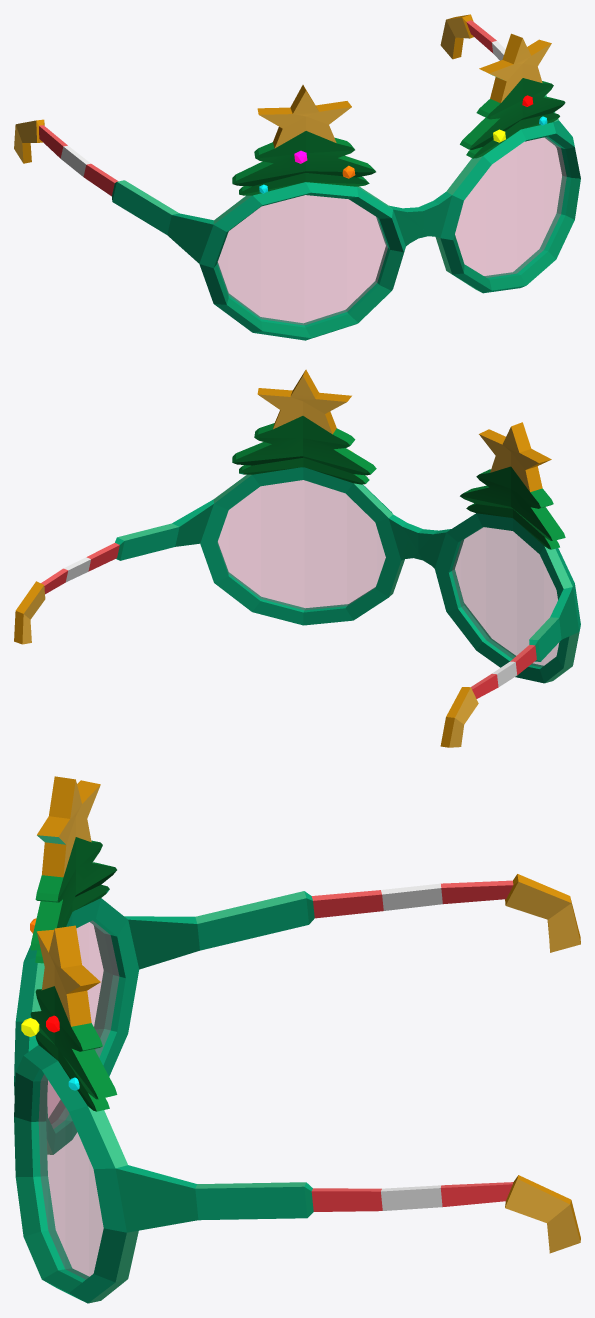
Rendered from Eyewear_XmasTree.glb.
The picture shows the model from 3 angles, top to bottom: view 1: azimuth 30°, elevation 25°; view 2: azimuth 150°, elevation 25°; view 3: azimuth 270°, elevation 25°; orthographic projection. The views are drawn at different scales.
Visible parts, largest first — view 1: Eyewear_XmasTree; view 2: Eyewear_XmasTree; view 3: Eyewear_XmasTree.
Part boxes in pixels (bbox=[...]): Eyewear_XmasTree: bbox=[14, 14, 580, 340]; Eyewear_XmasTree: bbox=[14, 369, 580, 747]; Eyewear_XmasTree: bbox=[14, 776, 580, 1303].
Size of what is drawn, in the model's own units: 0.9901 by 0.5372 by 0.7647.
2 materials, 2 textured.
